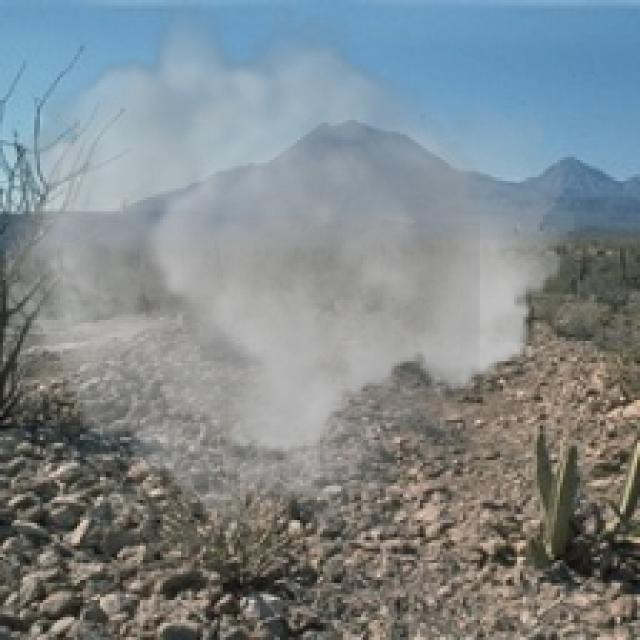smoke: (5, 0, 575, 552)
